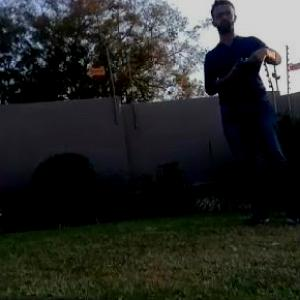follow: (199, 0, 299, 231)
